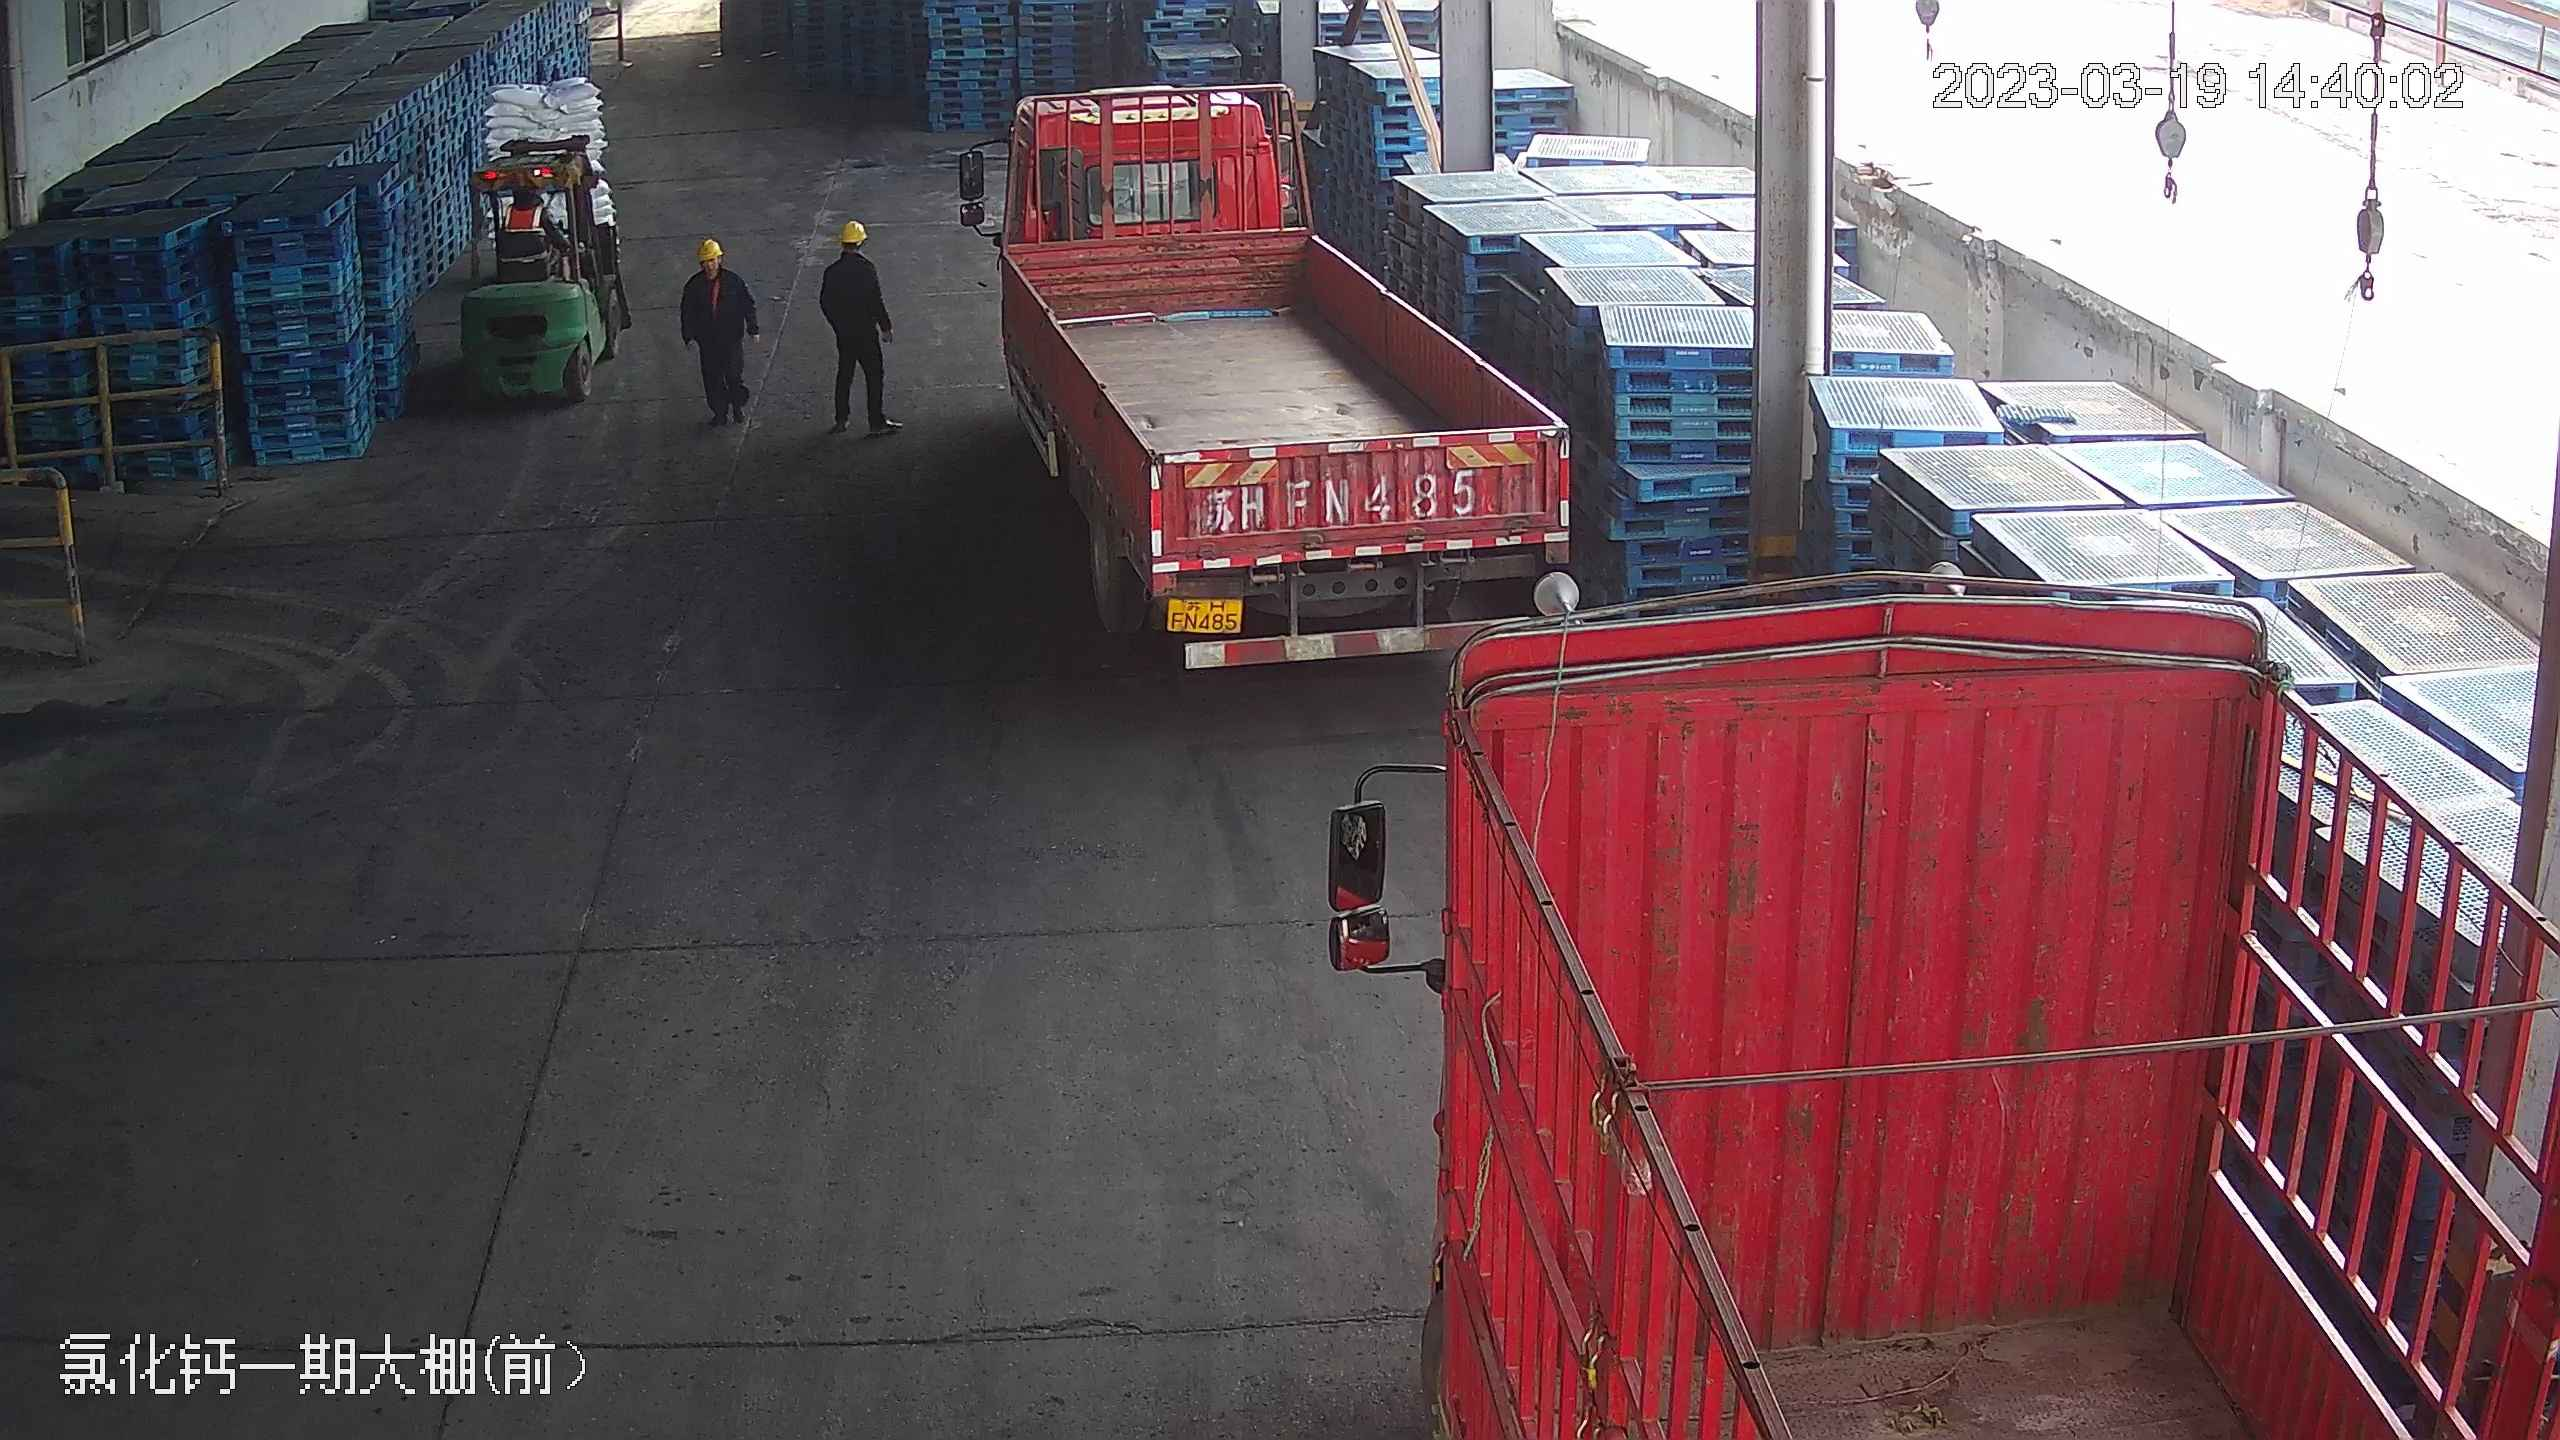head: (821, 219, 881, 283), (682, 235, 746, 295)
helmet: (836, 219, 869, 244), (692, 238, 724, 262)
people: (817, 217, 898, 437), (677, 233, 760, 428)
truck: (1364, 538, 2550, 1440), (970, 65, 1579, 670)
